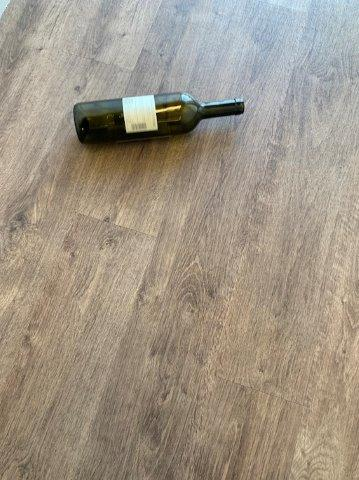botolkaca: (73, 90, 245, 142)
